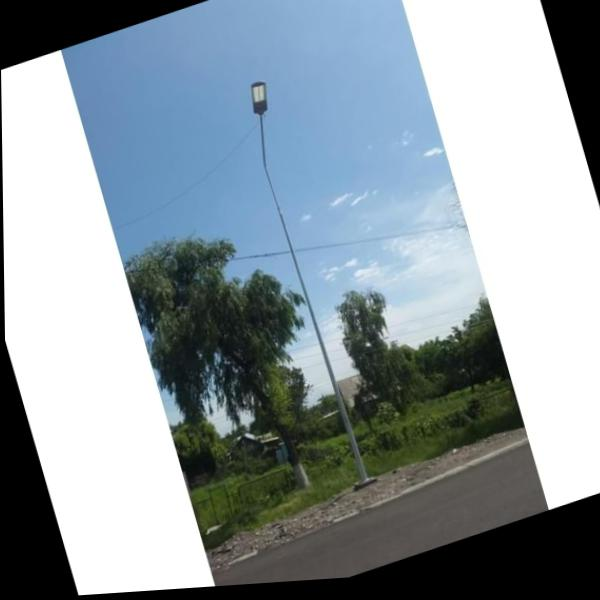Animal: (211, 67, 408, 535)
